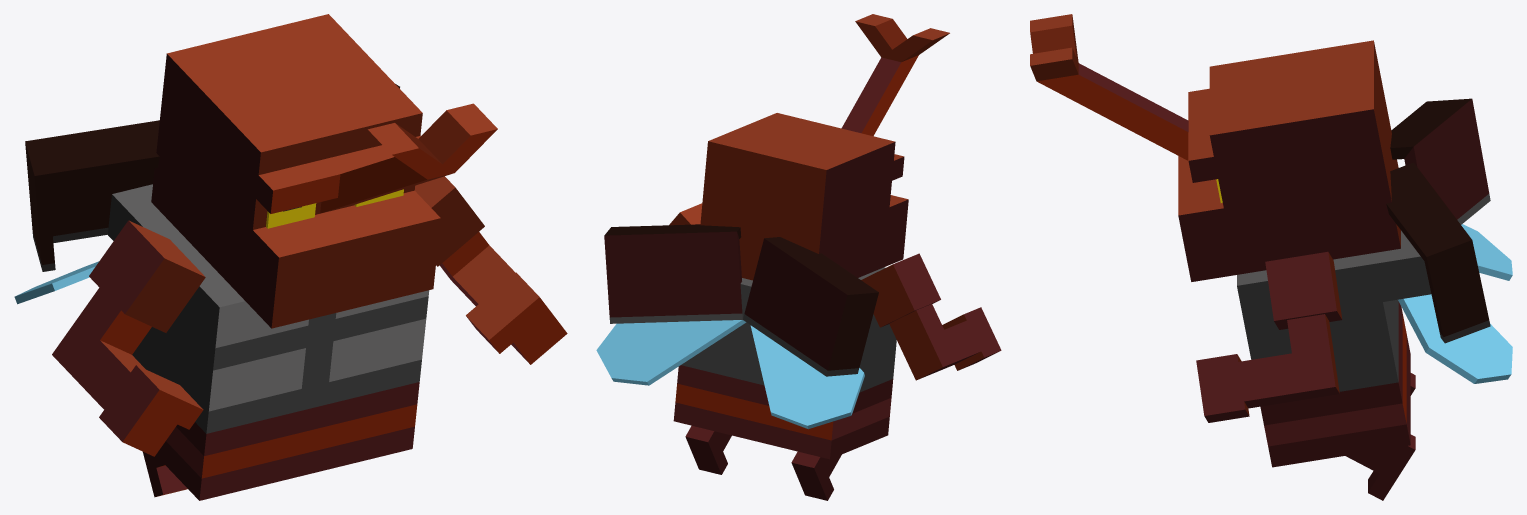
File: Ch_205@Down.FBX
3 renders of one model, left to right at view 1: azimuth 30°, elevation 25°; view 2: azimuth 150°, elevation 25°; view 3: azimuth 270°, elevation 25°, orthographic. The views are drawn at different scales.
Visible parts, largest first — view 1: Ch_205_Head, Ch_205, Ch_205_Arm_L, Ch_205_WingCover_R, Ch_205_Arm_R, Ch_205_Leg_L, Ch_205_Eye_01, Ch_205_Wing_R; view 2: Ch_205_Head, Ch_205, Ch_205_WingCover_L, Ch_205_WingCover_R, Ch_205_Arm_L, Ch_205_Wing_R, Ch_205_Wing_L, Ch_205_Leg_L, Ch_205_Leg_R, Ch_205_Arm_R; view 3: Ch_205_Head, Ch_205, Ch_205_Arm_R, Ch_205_WingCover_L, Ch_205_WingCover_R, Ch_205_Wing_L, Ch_205_Leg_R, Ch_205_Wing_R.
Boxes of the visible parts, bbox=[...] form: Ch_205_Head: bbox=[151, 14, 497, 328]; Ch_205: bbox=[107, 184, 429, 500]; Ch_205_Arm_L: bbox=[52, 220, 205, 456]; Ch_205_WingCover_R: bbox=[25, 120, 159, 271]; Ch_205_Arm_R: bbox=[414, 176, 567, 364]; Ch_205_Leg_L: bbox=[143, 452, 187, 497]; Ch_205_Eye_01: bbox=[266, 189, 403, 228]; Ch_205_Wing_R: bbox=[14, 261, 99, 304]; Ch_205_Head: bbox=[700, 14, 949, 280]; Ch_205: bbox=[673, 267, 896, 459]; Ch_205_WingCover_L: bbox=[604, 224, 742, 323]; Ch_205_WingCover_R: bbox=[743, 237, 878, 376]; Ch_205_Arm_L: bbox=[861, 253, 1001, 380]; Ch_205_Wing_R: bbox=[750, 325, 864, 429]; Ch_205_Wing_L: bbox=[596, 320, 746, 385]; Ch_205_Leg_L: bbox=[791, 451, 841, 500]; Ch_205_Leg_R: bbox=[685, 426, 731, 474]; Ch_205_Arm_R: bbox=[669, 203, 702, 225]; Ch_205_Head: bbox=[1030, 14, 1400, 281]; Ch_205: bbox=[1237, 230, 1431, 467]; Ch_205_Arm_R: bbox=[1196, 251, 1342, 422]; Ch_205_WingCover_L: bbox=[1386, 162, 1490, 343]; Ch_205_WingCover_R: bbox=[1390, 98, 1490, 224]; Ch_205_Wing_L: bbox=[1398, 294, 1512, 383]; Ch_205_Leg_R: bbox=[1345, 434, 1415, 500]; Ch_205_Wing_R: bbox=[1461, 224, 1512, 280].
Size of the model in its own units: 11.27 by 11.85 by 12.14.
